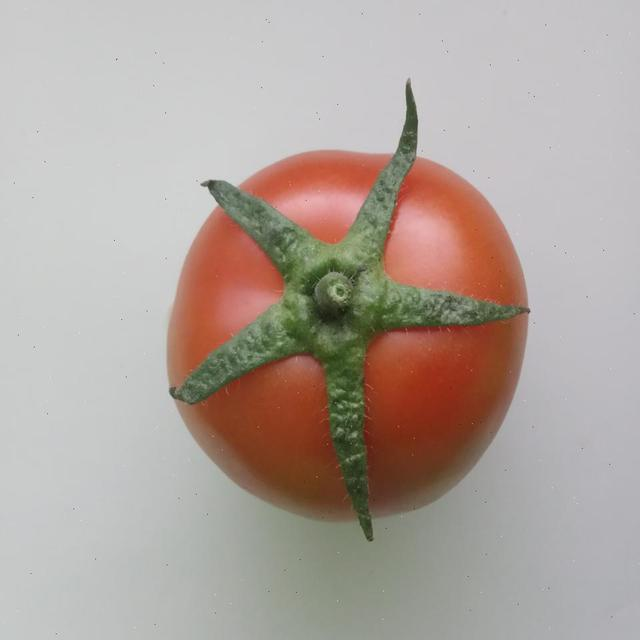Healthy Fruit: (104, 92, 361, 355)
